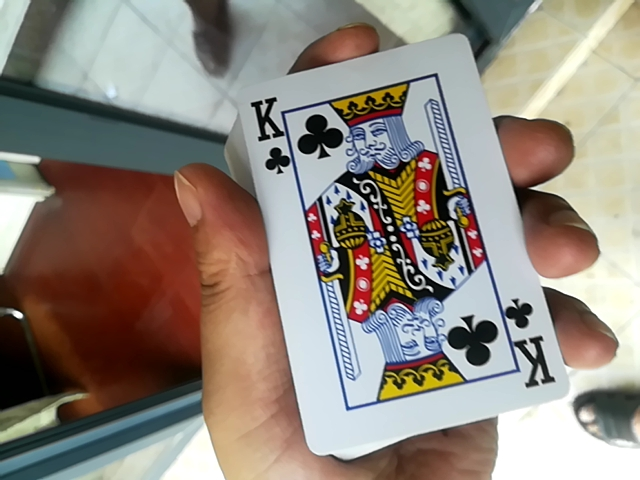mh k: (213, 6, 586, 466)
